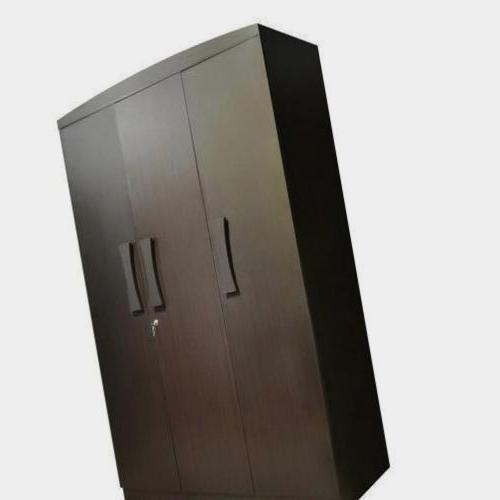Armario: (61, 24, 396, 496)
